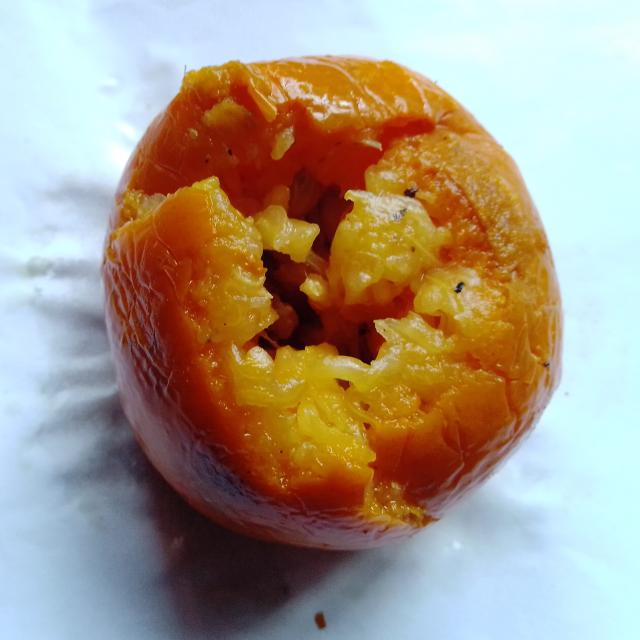orange: (104, 58, 561, 548)
